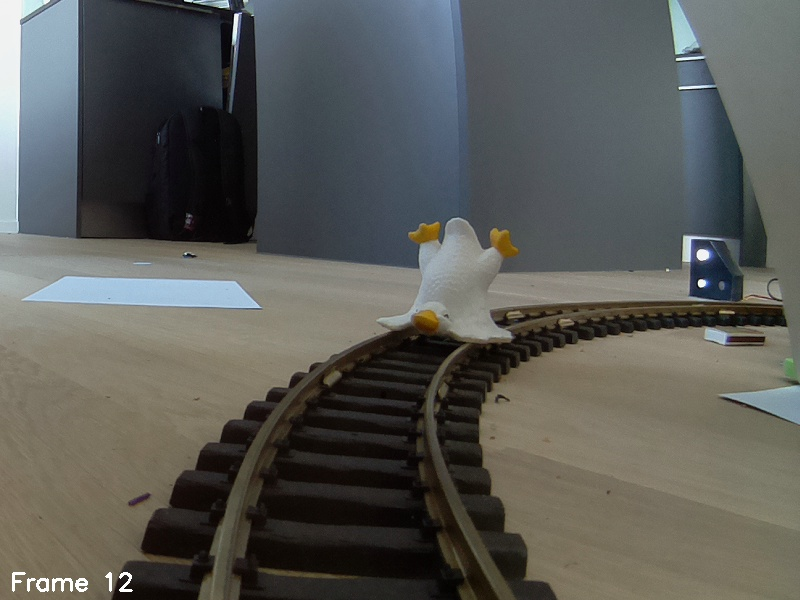Ente: (372, 208, 518, 350)
Fahrt: (686, 235, 746, 303)
